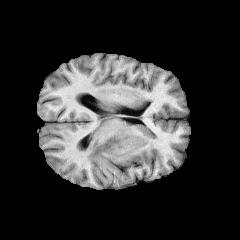glioma: (86, 123, 129, 165)
